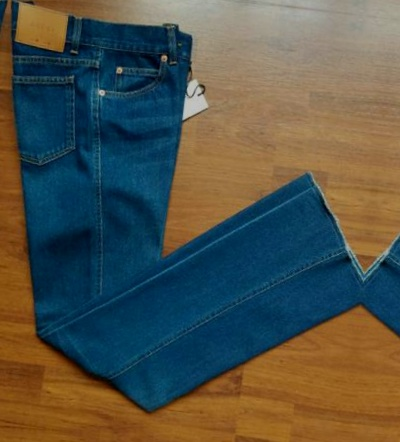Pants: (0, 0, 393, 429), (347, 33, 400, 442), (0, 0, 5, 382), (20, 0, 400, 5), (398, 0, 400, 51)
